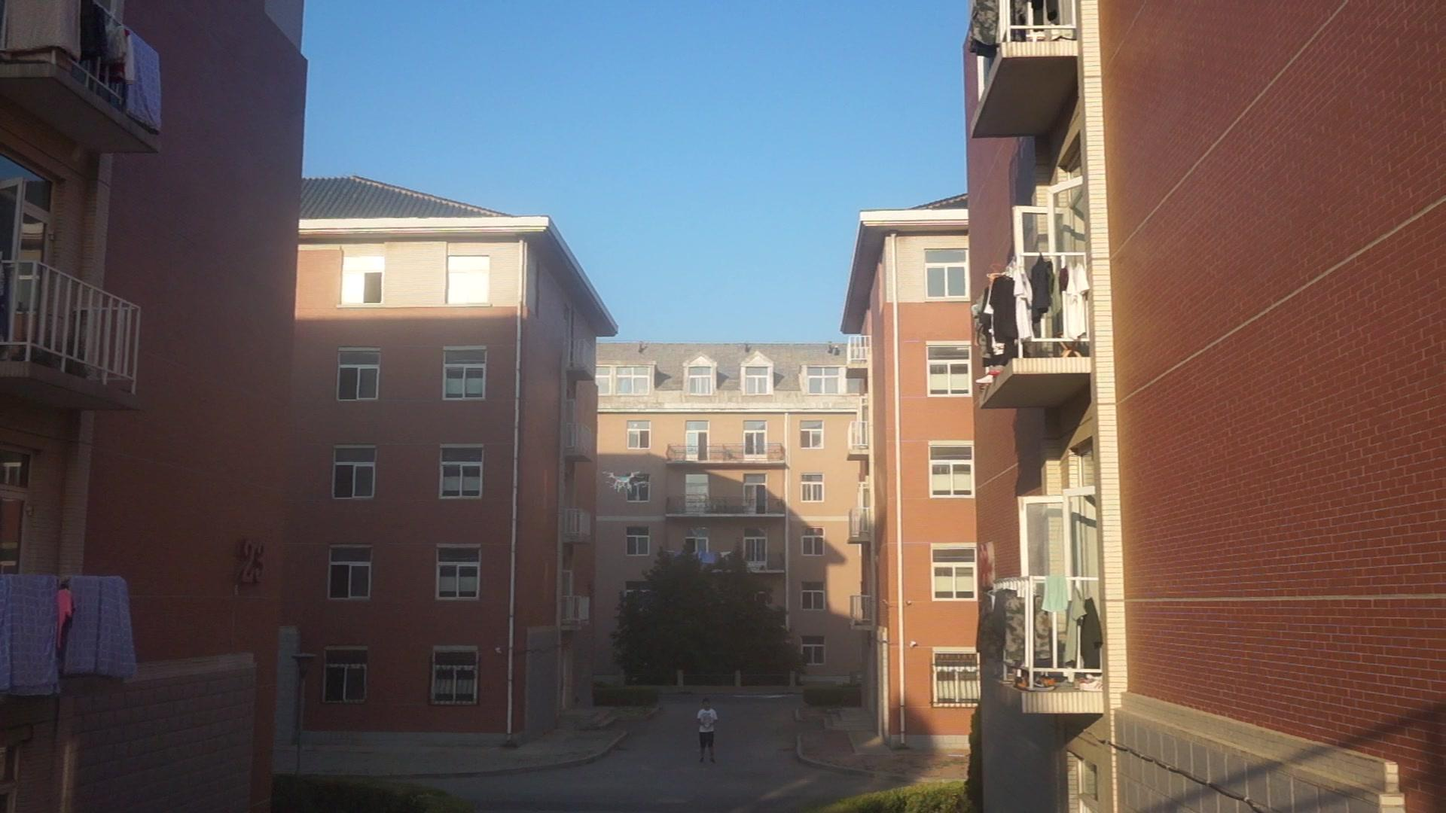UAV: (602, 470, 646, 493)
